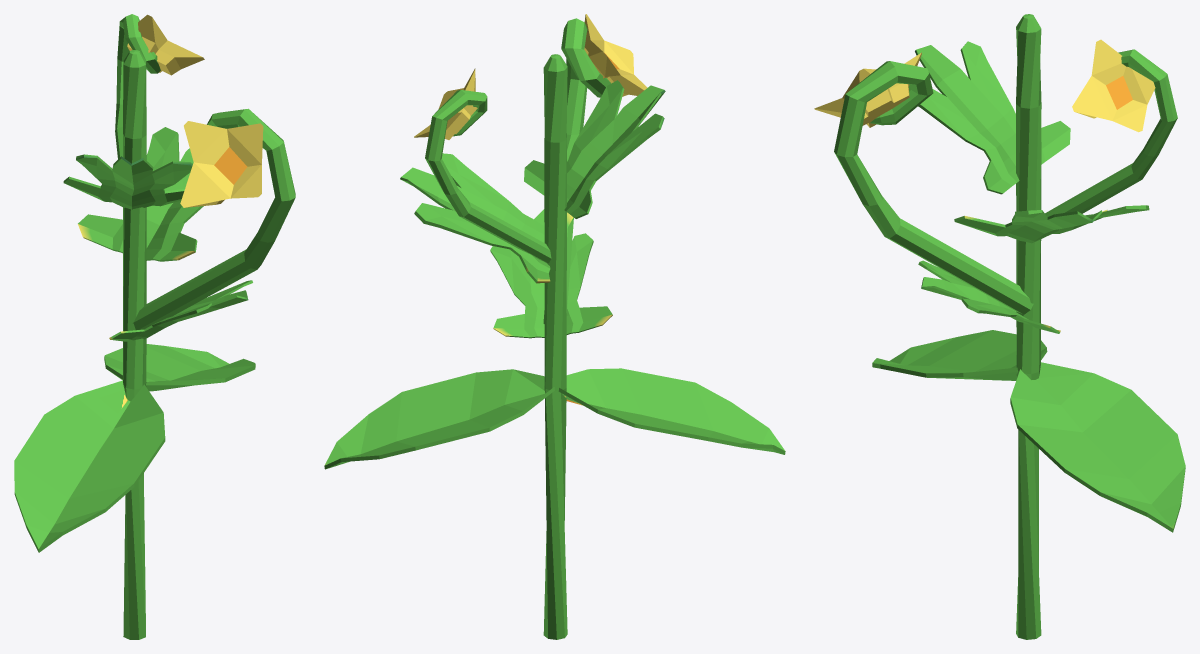
File: watermelon_adult.fbx
The picture shows the model from 3 angles, left to right: view 1: azimuth 30°, elevation 25°; view 2: azimuth 150°, elevation 25°; view 3: azimuth 270°, elevation 25°; orthographic projection. The views are drawn at different scales.
Visible parts, largest first — view 1: watermelon_adult; view 2: watermelon_adult; view 3: watermelon_adult.
Boxes of the visible parts, x1=… form: watermelon_adult: x1=14, y1=14, x2=295, y2=639; watermelon_adult: x1=324, y1=14, x2=785, y2=639; watermelon_adult: x1=814, y1=14, x2=1185, y2=639.
Size of the model in its own units: 53.68 by 91.13 by 49.54.
